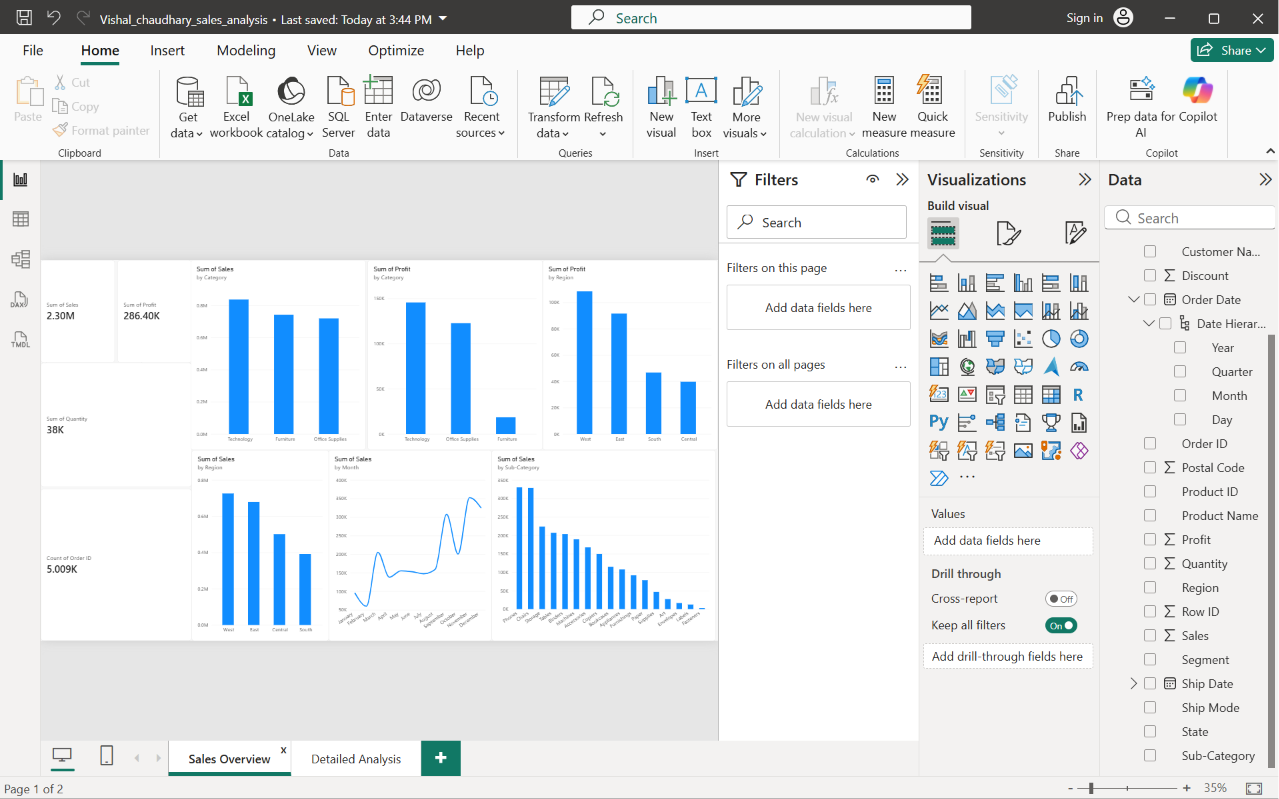

The dashboard page shown, as its layout file describes it:
{"tool":"powerbi","page":{"name":"Sales Overview","canvas":[1920,1080],"ordinal":0},"visuals":[{"type":"cardVisual","fields":{"Data":["Sum(Sample - Superstore.Sales)","Sum(Sample - Superstore.Profit)"]},"box":[0,0,428,292],"z":0},{"type":"cardVisual","fields":{"Data":["Sum(Sample - Superstore.Quantity)"]},"box":[10,290,280,280],"z":1},{"type":"cardVisual","fields":{"Data":["Sum(Sample - Superstore.Quantity)"]},"box":[0,292,428,351.5],"z":2},{"type":"cardVisual","fields":{"Data":["Count(Sample - Superstore.Order ID)"]},"box":[0,649.1,428,430.9],"z":3},{"type":"clusteredColumnChart","fields":{"Category":["Sample - Superstore.Category"],"Y":["Sum(Sample - Superstore.Sales)"]},"box":[425.2,0,496.1,538.6],"z":4},{"type":"clusteredColumnChart","fields":{"Category":["Sample - Superstore.Region"],"Y":["Sum(Sample - Superstore.Sales)"]},"box":[428,538.6,388.3,541.4],"z":5},{"type":"clusteredColumnChart","fields":{"Category":["Sample - Superstore.Category"],"Y":["Sum(Sample - Superstore.Profit)"]},"box":[926.9,0,496.1,538.6],"z":6},{"type":"lineChart","fields":{"Category":["Sample - Superstore.Order Date.Variation.Date Hierarchy.Month"],"Y":["Sum(Sample - Superstore.Sales)"]},"box":[816.4,538.6,462.1,541.4],"z":7},{"type":"clusteredColumnChart","fields":{"Category":["Sample - Superstore.Region"],"Y":["Sum(Sample - Superstore.Profit)"]},"box":[1423,0,496.1,538.6],"z":8},{"type":"clusteredColumnChart","fields":{"Category":["Sample - Superstore.Sub-Category"],"Y":["Sum(Sample - Superstore.Sales)"]},"box":[1278.4,538.6,635,541.4],"z":9}]}

Visuals, with their boxes on the page's 1920x1080 design canvas (x1, y1, x2, y2). These are canvas units, not pixel positions in the 1279x799 screenshot, which may show the page scaled, cropped or inside an application window:
cardVisual - Sum(Sample - Superstore.Sales) x Sum(Sample - Superstore.Profit): (0,0,428,292)
cardVisual - Sum(Sample - Superstore.Quantity): (10,290,290,570)
cardVisual - Sum(Sample - Superstore.Quantity): (0,292,428,644)
cardVisual - Count(Sample - Superstore.Order ID): (0,649,428,1080)
clusteredColumnChart - Sample - Superstore.Category x Sum(Sample - Superstore.Sales): (425,0,921,539)
clusteredColumnChart - Sample - Superstore.Region x Sum(Sample - Superstore.Sales): (428,539,816,1080)
clusteredColumnChart - Sample - Superstore.Category x Sum(Sample - Superstore.Profit): (927,0,1423,539)
lineChart - Sample - Superstore.Order Date.Variation.Date Hierarchy.Month x Sum(Sample - Superstore.Sales): (816,539,1278,1080)
clusteredColumnChart - Sample - Superstore.Region x Sum(Sample - Superstore.Profit): (1423,0,1919,539)
clusteredColumnChart - Sample - Superstore.Sub-Category x Sum(Sample - Superstore.Sales): (1278,539,1913,1080)
